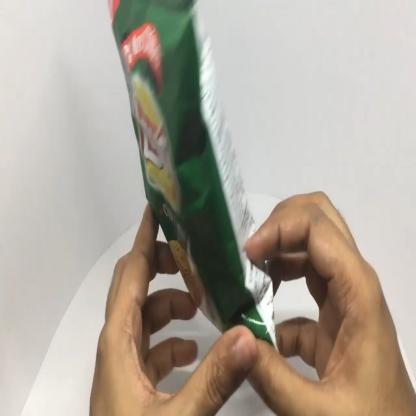chile_limon: (109, 1, 277, 353)
